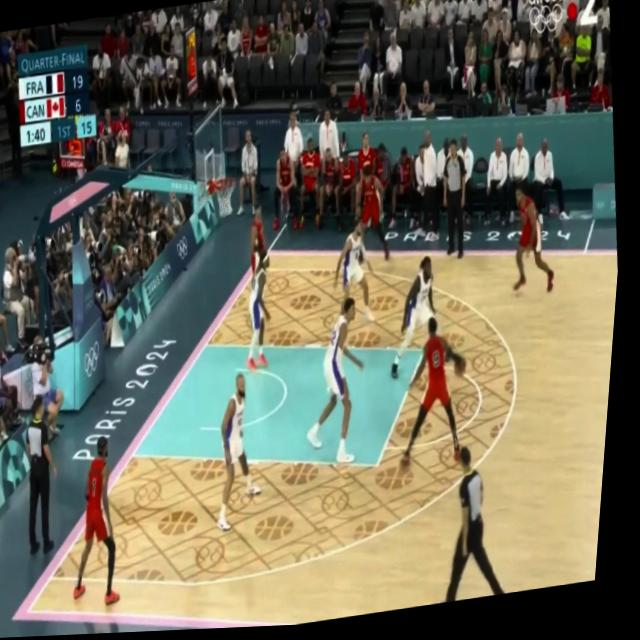ball_handler: (399, 318, 482, 461)
